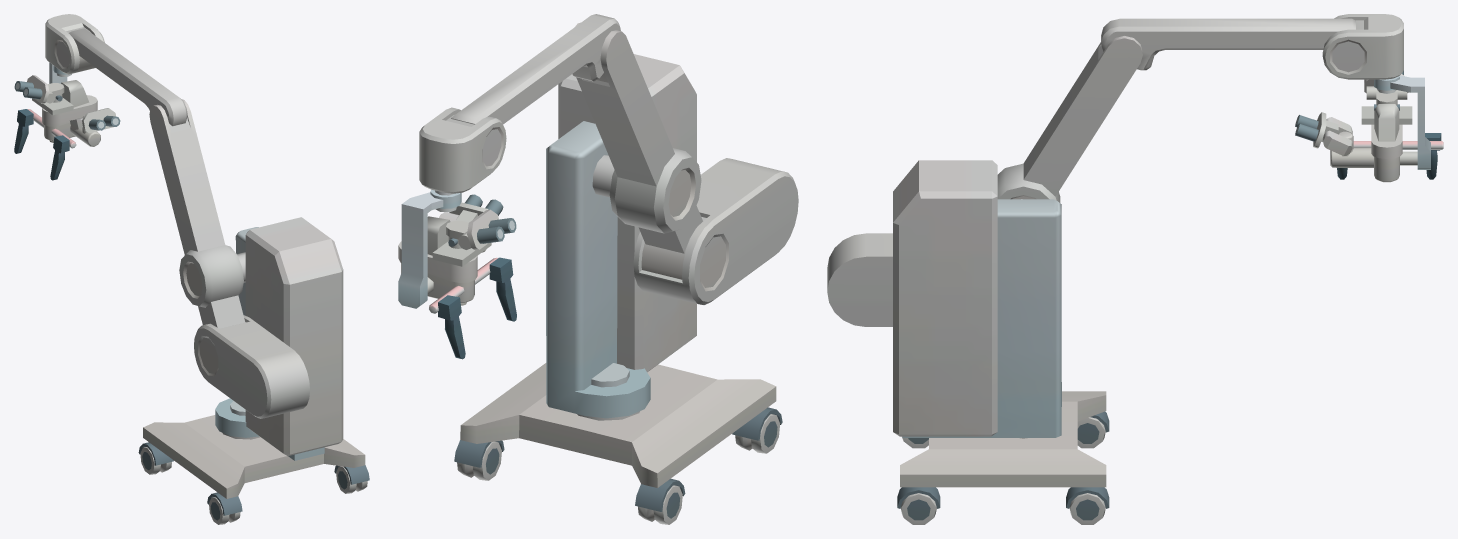
Rendered from Pfb_JLAB_Surgery_Machine.fbx.
3 views of the same model, side by side, from view 1: azimuth 30°, elevation 25°; view 2: azimuth 150°, elevation 25°; view 3: azimuth 270°, elevation 25° (orthographic). The views are drawn at different scales.
Visible parts, largest first — view 1: Color, Metal; view 2: Color, Metal; view 3: Color, Metal.
Boxes of the visible parts, x1=… form: Color: x1=14, y1=14, x2=369, y2=524; Metal: x1=28, y1=62, x2=76, y2=148; Color: x1=398, y1=14, x2=798, y2=524; Metal: x1=398, y1=189, x2=497, y2=313; Color: x1=827, y1=14, x2=1441, y2=524; Metal: x1=1353, y1=75, x2=1443, y2=169.
Bounding box in the file's own units: 0.6163 × 1.39 × 1.77.
Materials: 2 (2 with a texture image).
